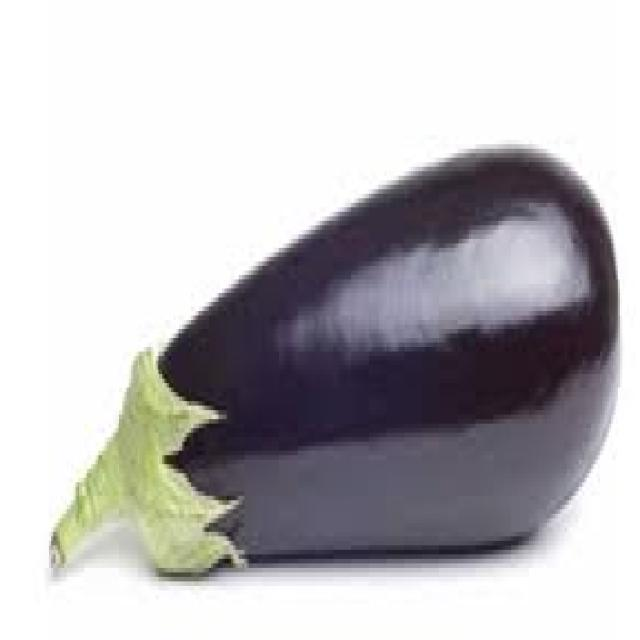aubergine: (49, 117, 640, 622)
